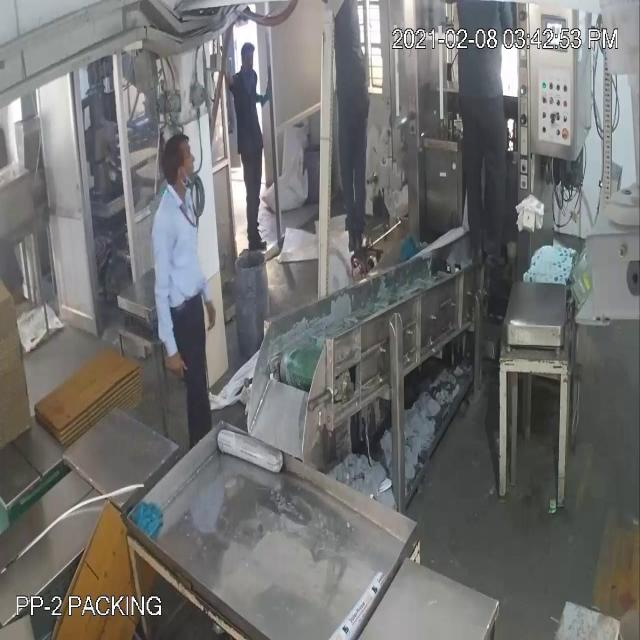No_Gloves: (154, 231, 189, 387)
